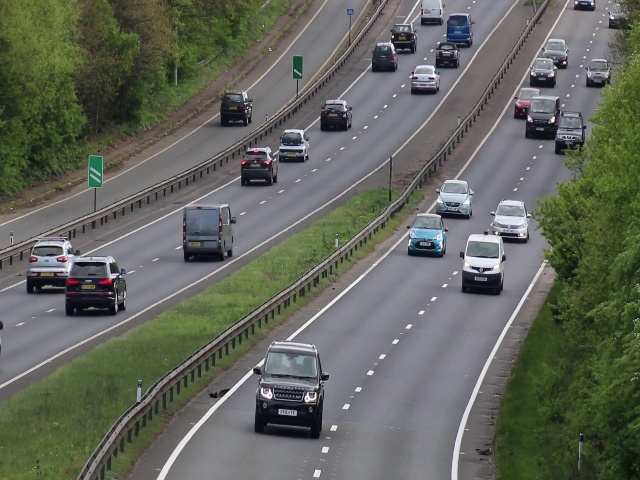car: (258, 342, 323, 437), (65, 257, 127, 319), (180, 203, 239, 260), (464, 235, 505, 293), (27, 238, 68, 296), (434, 175, 473, 218), (410, 212, 445, 258), (239, 148, 279, 186), (492, 199, 527, 240), (554, 114, 589, 154), (219, 92, 254, 127), (320, 97, 353, 134), (525, 99, 557, 137), (280, 128, 310, 162), (409, 63, 441, 94), (447, 12, 474, 46), (391, 21, 417, 53), (527, 59, 558, 85), (435, 42, 461, 69), (372, 44, 397, 72), (586, 60, 609, 88), (543, 37, 569, 55), (421, 1, 442, 22), (516, 87, 530, 117)
